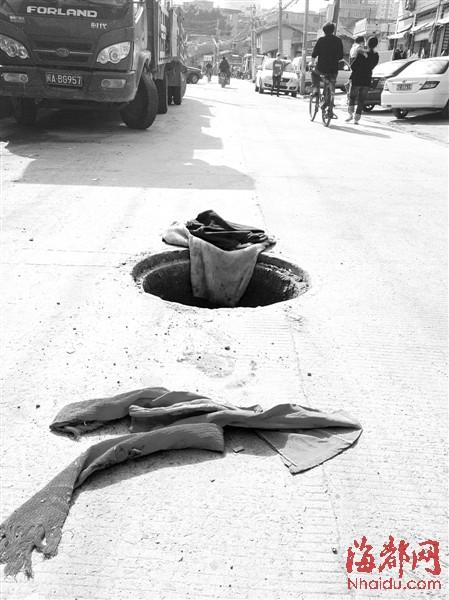lose: (125, 234, 321, 321)
